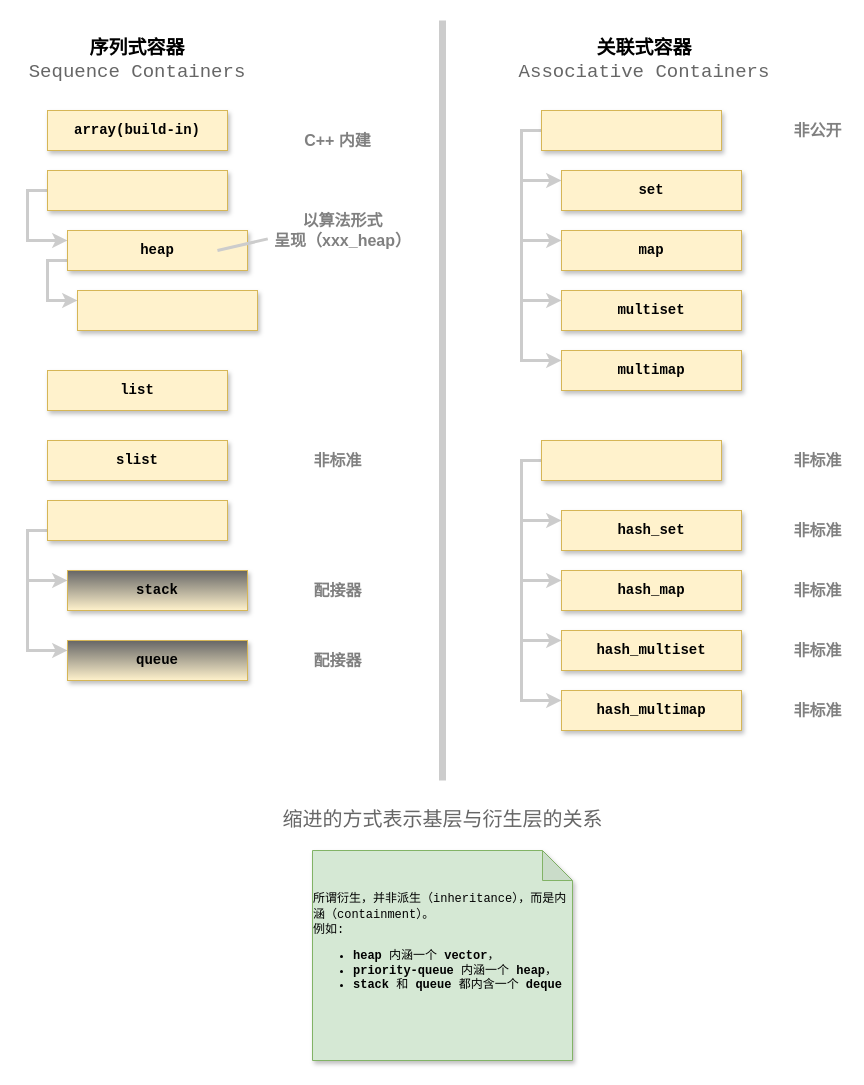
Image size: 864x1085. Some labels were removed from this diagram. Each missing label, with the centre of its shape:
deque: pixel 138 522
hashtable: pixel 632 462
priority-queue: pixel 168 312
RB-tree: pixel 632 132
vector: pixel 138 192
